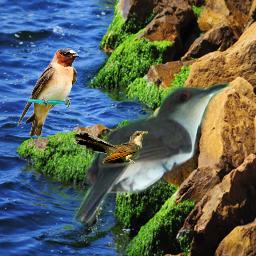Cuckoo: (72, 82, 233, 226), (73, 131, 148, 164)
Swallow: (17, 48, 79, 137)
